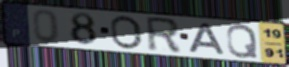0: (31, 9, 61, 45)
8: (68, 11, 100, 47)
A: (186, 22, 227, 57)
O: (108, 14, 145, 51)
Q: (225, 23, 260, 59)
R: (144, 16, 183, 55)
